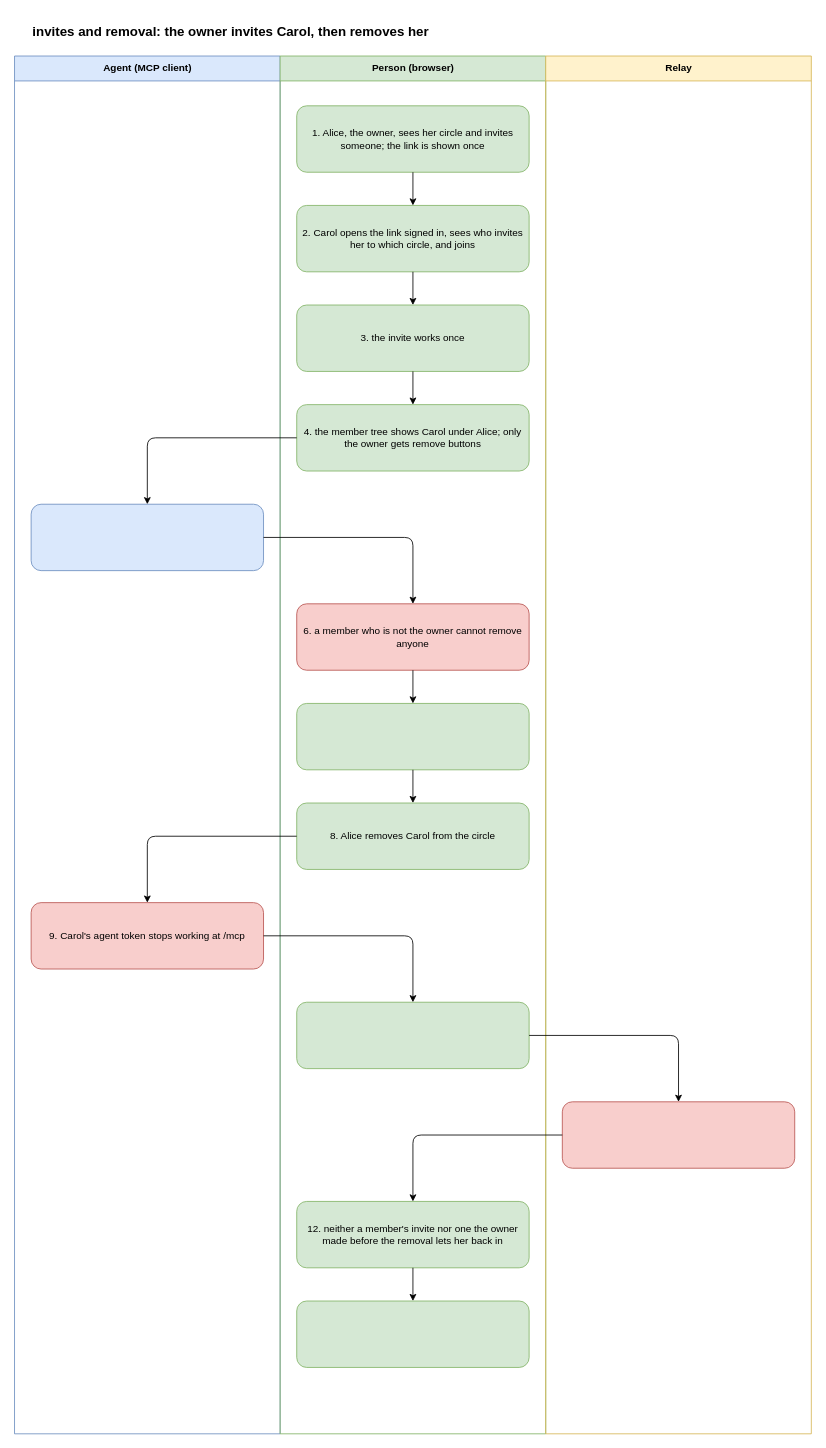
The diagram is 826 pixels wide and 1448 high, and some of its shapes have lost their labels. Here are the shapes that lost their labels. From the top down, the centre of each, then its label:
At (x=147, y=537): "5. Carol's agent shares a solution, and it matches what Bob is looking for".
At (x=412, y=736): "7. Alice invites again before deciding to remove Carol".
At (x=412, y=1035): "10. her browser session ends with it".
At (x=678, y=1134): "11. Carol's sips stop matching".
At (x=412, y=1333): "13. an invite the owner makes after the removal re-admits her".
